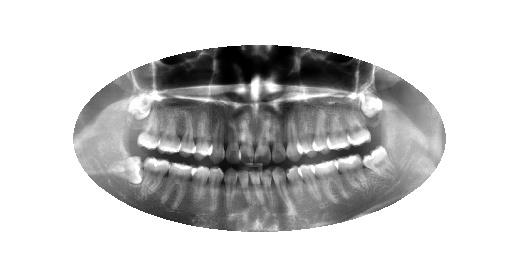Impacted Tooth: (361, 147, 398, 180), (111, 155, 144, 185)
